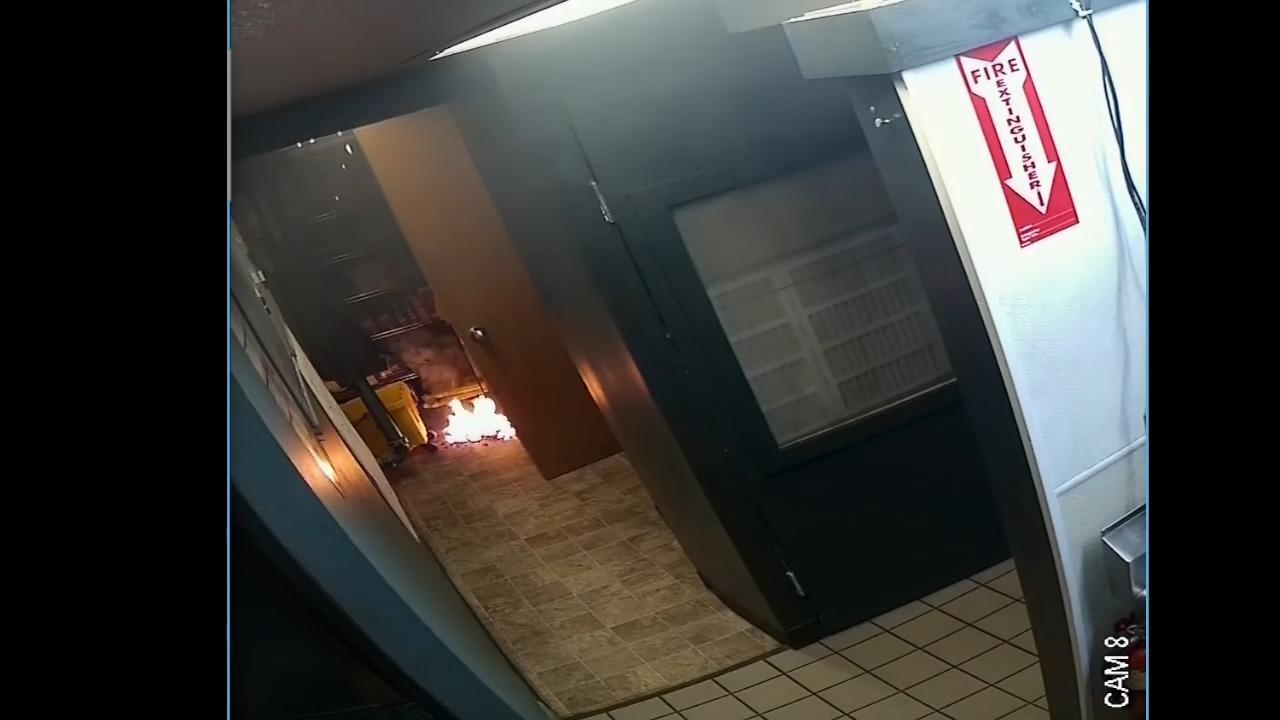fire: (444, 397, 514, 444)
